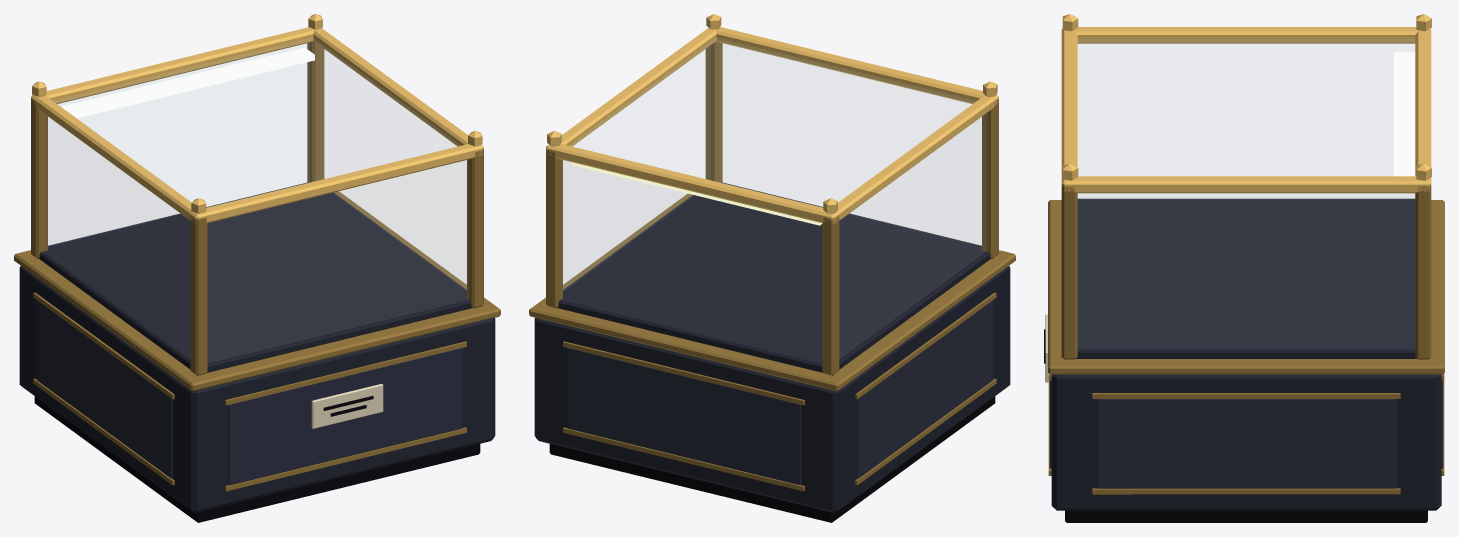
Rendered from vitrina.glb.
3 renders of one model, left to right at view 1: azimuth 30°, elevation 25°; view 2: azimuth 150°, elevation 25°; view 3: azimuth 270°, elevation 25°, orthographic. The views are drawn at different scales.
Parts seen in each view (by area): view 1: vitrina, glass; view 2: vitrina, glass; view 3: vitrina, glass.
Boxes of the visible parts, x1=… form: vitrina: x1=14, y1=14, x2=500, y2=522; glass: x1=48, y1=43, x2=466, y2=291; vitrina: x1=529, y1=14, x2=1015, y2=522; glass: x1=563, y1=43, x2=981, y2=291; vitrina: x1=1044, y1=14, x2=1444, y2=522; glass: x1=1078, y1=43, x2=1414, y2=199.
Size of the model in its own units: 0.875 by 0.872 by 0.884.
